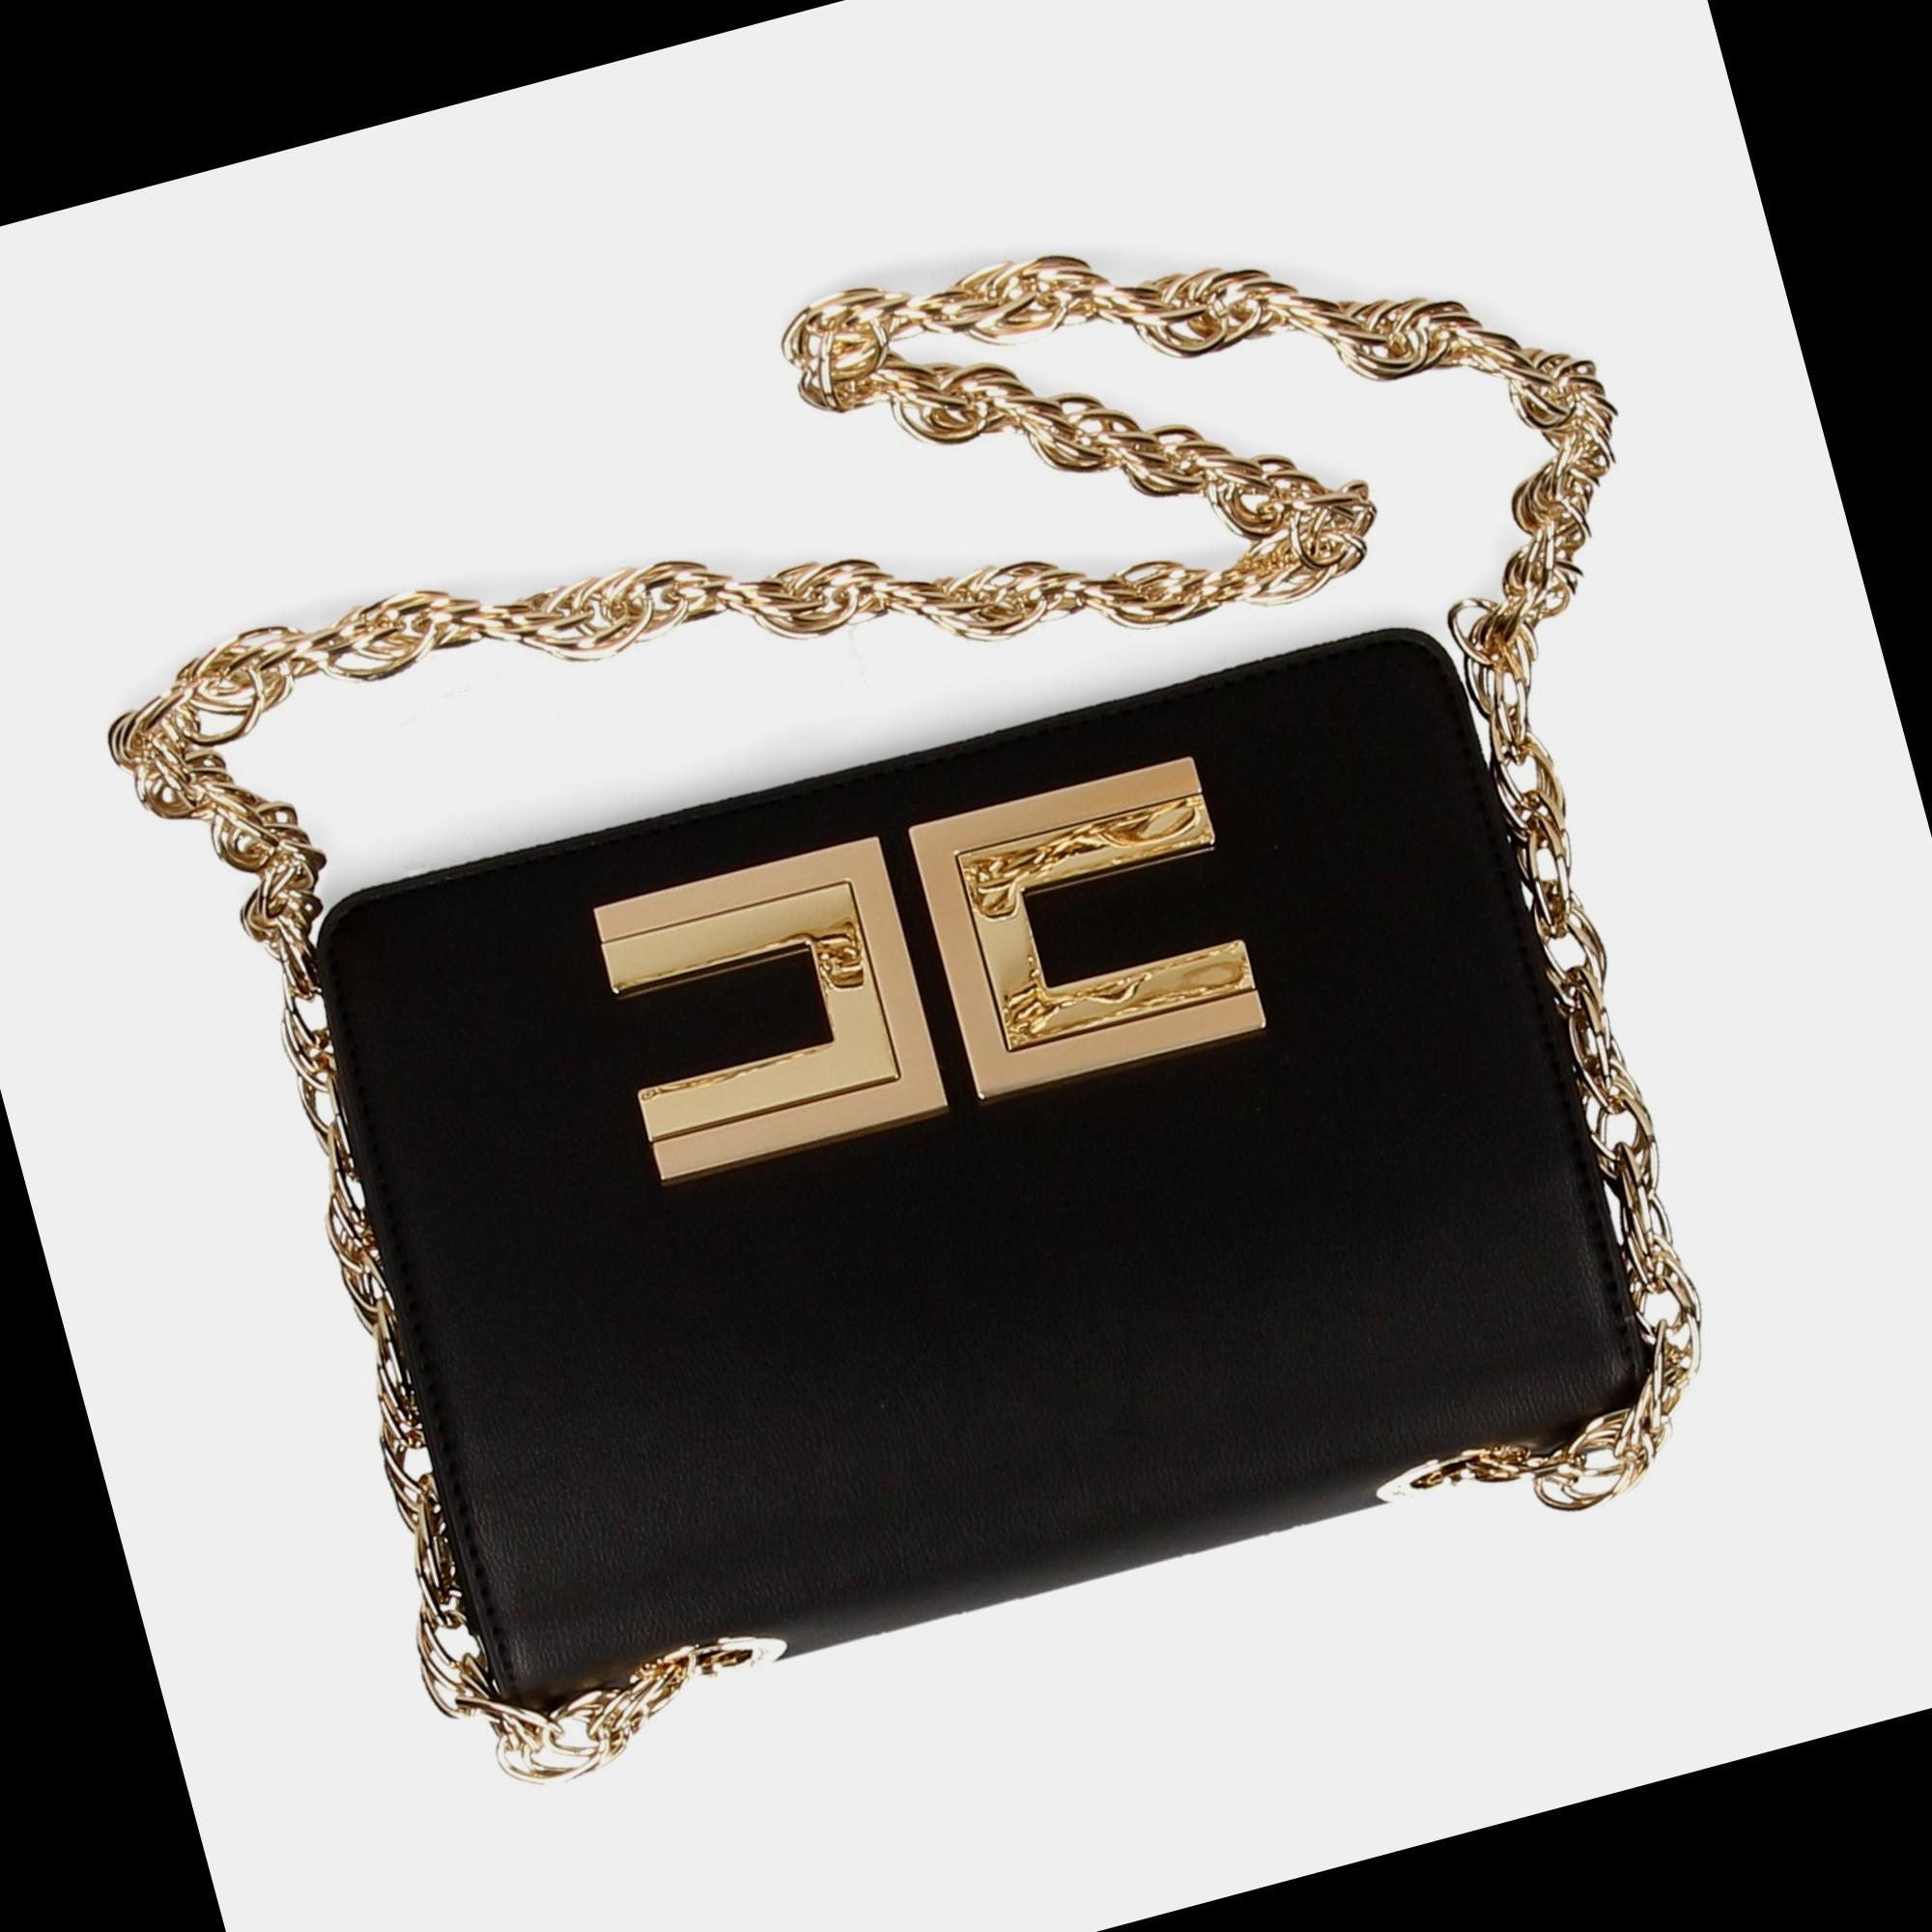ELISABETTA-FRANCHI: (545, 708, 1325, 1242)
